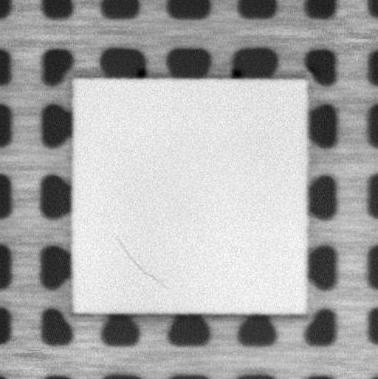DIE_CRACK: (114, 235, 169, 290)
